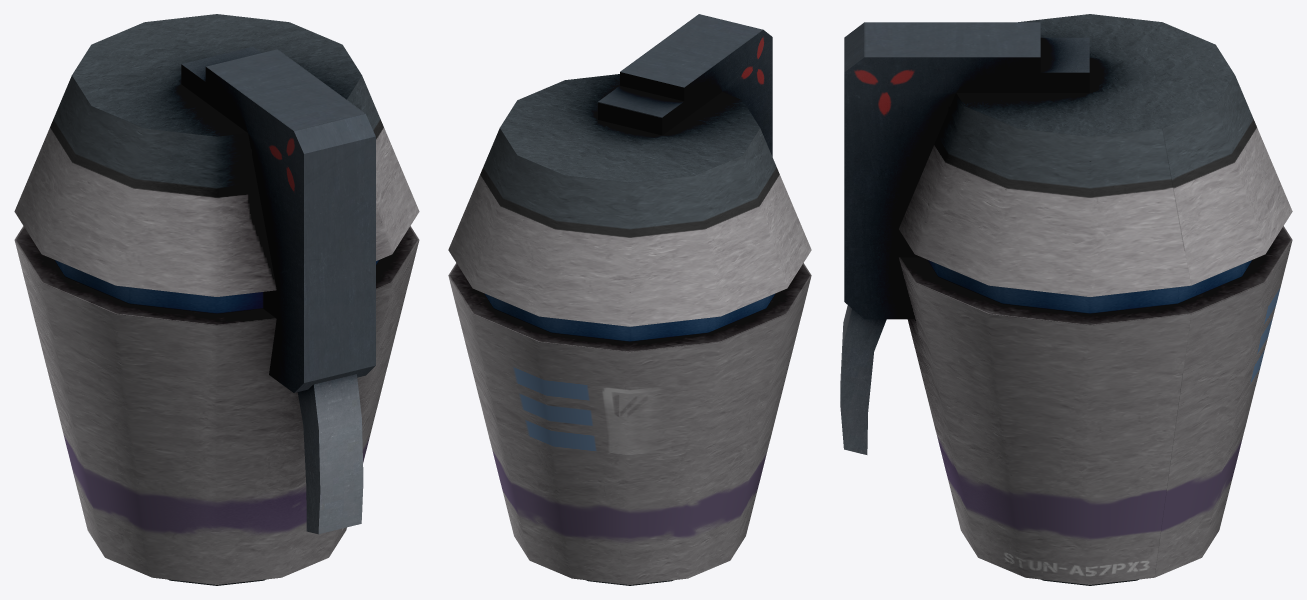
Rendered from Grenade.fbx.
3 views of the same model, side by side, from view 1: azimuth 30°, elevation 25°; view 2: azimuth 150°, elevation 25°; view 3: azimuth 270°, elevation 25° (orthographic). The views are drawn at different scales.
Visible parts, largest first — view 1: polySurface1; view 2: polySurface1; view 3: polySurface1.
Part boxes in pixels (bbox=[...]): polySurface1: bbox=[14, 14, 419, 585]; polySurface1: bbox=[448, 14, 811, 585]; polySurface1: bbox=[840, 14, 1292, 585].
Size of the model in its own units: 0.1082 by 0.1493 by 0.1208.
